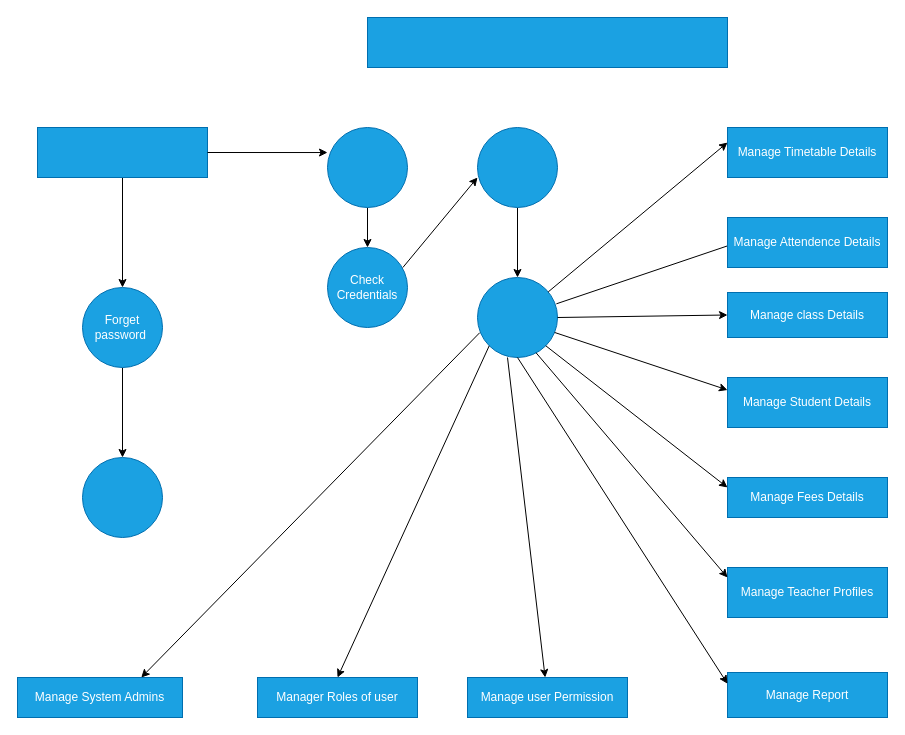
Image size: 905x735. Some labels were removed from this diagram. The shapes that lost their labels are listed below. From the top down, each one's centre as x and y in pixels, then its label:
At (547,42): "Student Information System".
At (122,152): "Admin".
At (367,167): "Login to system".
At (517,167): "Chcekk Roles of Access".
At (517,317): "Manage Modules".
At (122,497): "Send Email to User".
